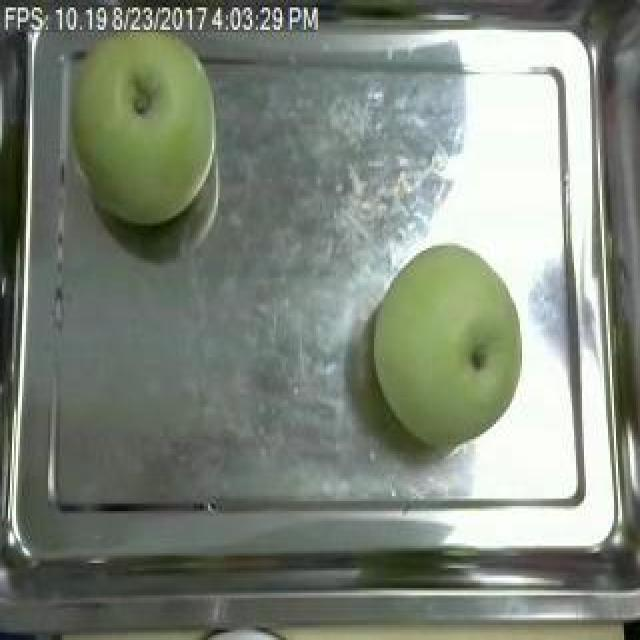Rotten Apple: (357, 237, 533, 455), (70, 28, 240, 230)
